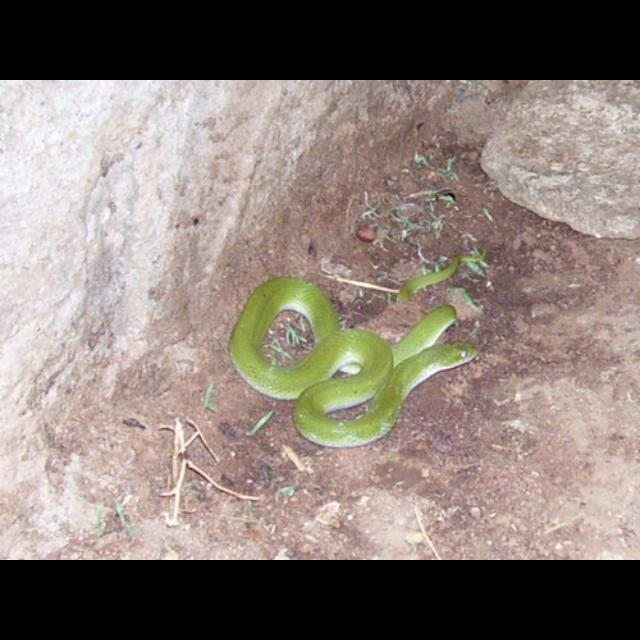snake: (227, 240, 498, 458)
